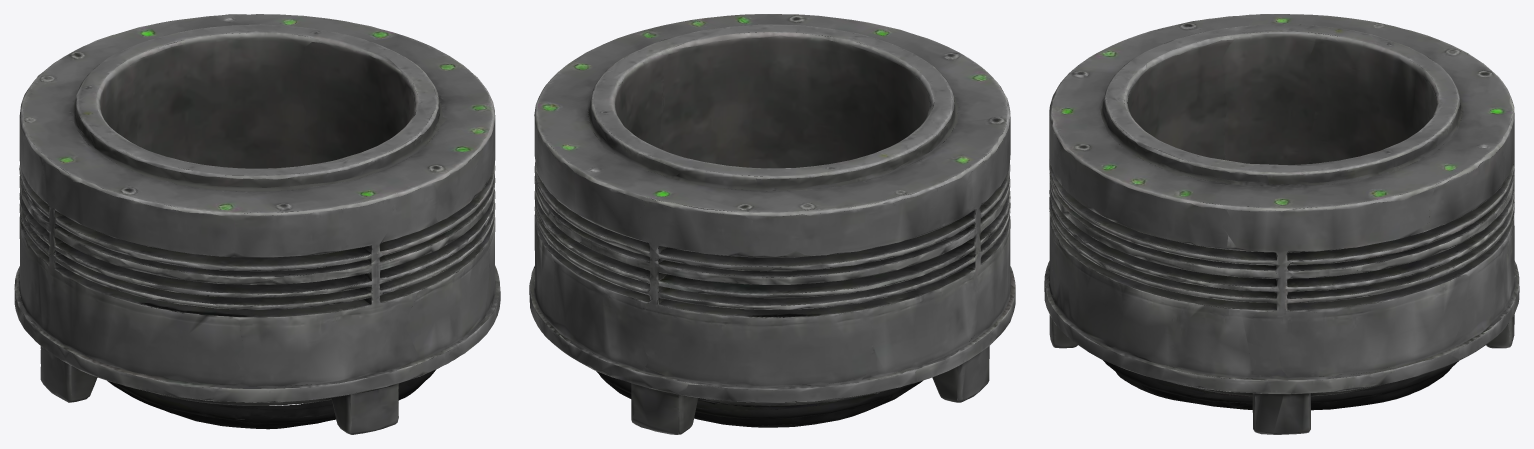
The model's file is prop-pedestal.glb.
3 views of the same model, side by side, from view 1: azimuth 30°, elevation 25°; view 2: azimuth 150°, elevation 25°; view 3: azimuth 270°, elevation 25° (orthographic). The views are drawn at different scales.
Parts seen in each view (by area): view 1: Mesh_0; view 2: Mesh_0; view 3: Mesh_0.
Boxes of the visible parts, <box> form: Mesh_0: <box>14,14,500,434</box>; Mesh_0: <box>529,14,1015,434</box>; Mesh_0: <box>1044,14,1519,434</box>.
Bounding box in the file's own units: 0.9994 × 0.5733 × 1.
1 material, 1 textured.
